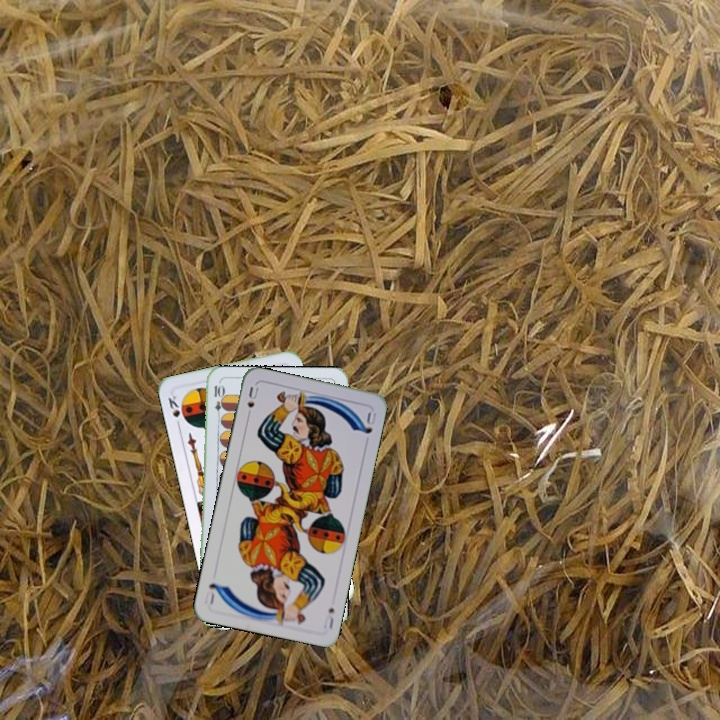E10: (210, 381, 224, 421)
SK: (164, 391, 183, 431)
SU: (243, 383, 261, 422), (319, 603, 337, 632)
